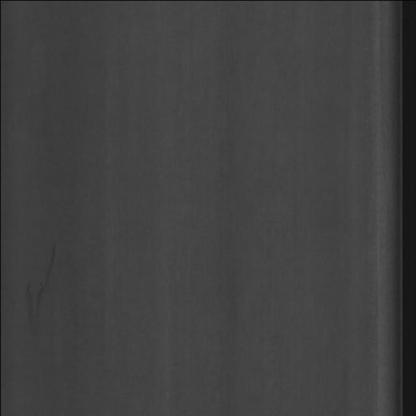water_spot: (16, 238, 70, 333)
